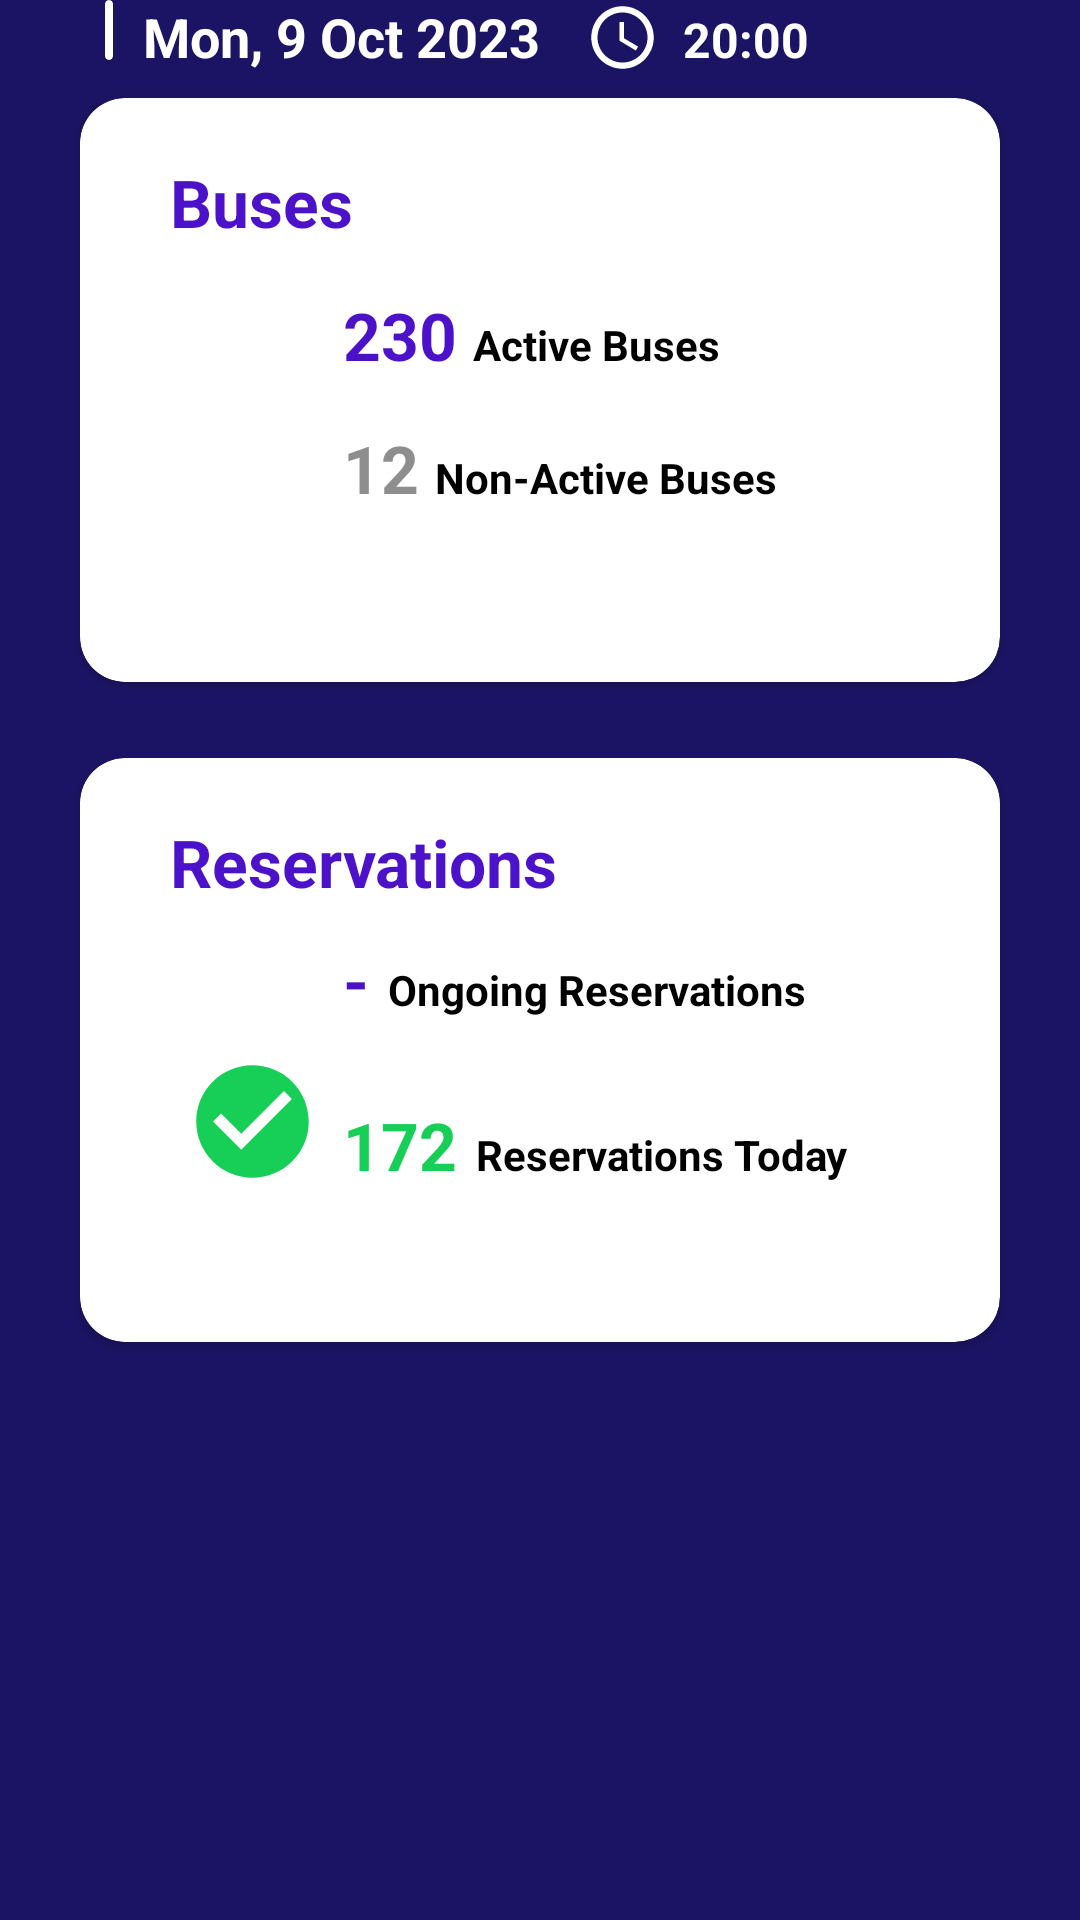

Named icons in this screenshot (1080w x 1920h) and their centers, (x,y):
access time: (622,37)
check circle: (252,1121)
